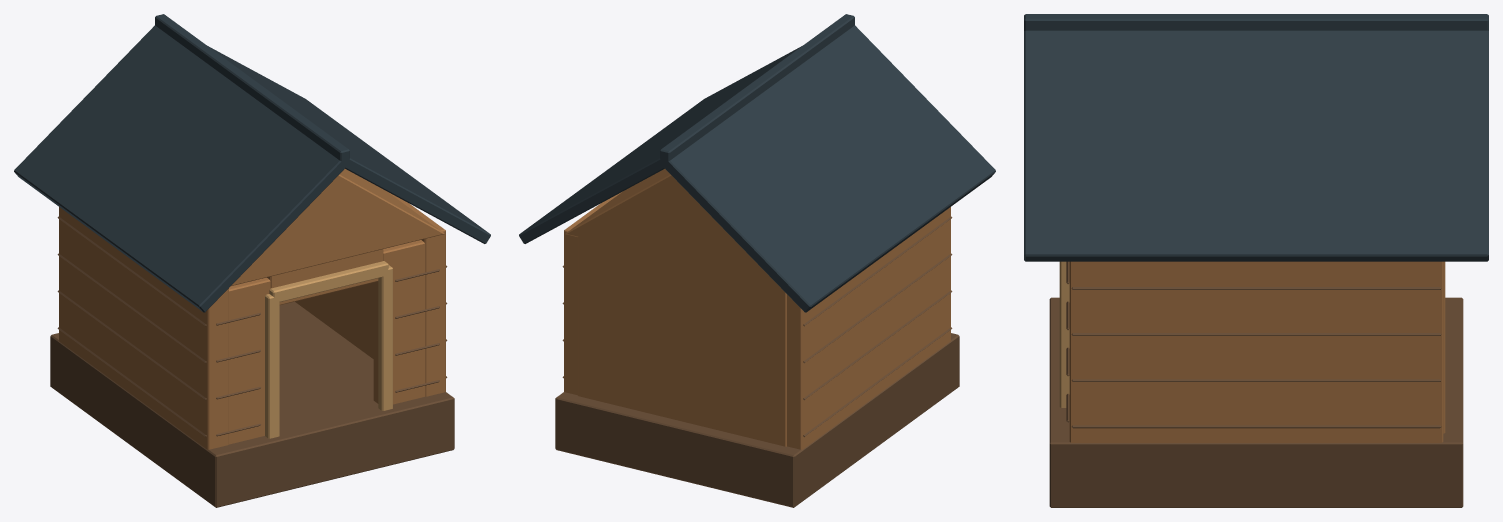
File: b11_cedar_backyard_dog_house.glb
3 views of the same model, side by side, from view 1: azimuth 30°, elevation 25°; view 2: azimuth 150°, elevation 25°; view 3: azimuth 270°, elevation 25° (orthographic). The views are drawn at different scales.
Parts seen in each view (by area): view 1: b11_cedar_backyard_dog_house; view 2: b11_cedar_backyard_dog_house; view 3: b11_cedar_backyard_dog_house.
Part boxes in pixels (box(x1,y1,x2,y2)): b11_cedar_backyard_dog_house: box(14, 14, 490, 507); b11_cedar_backyard_dog_house: box(519, 14, 995, 507); b11_cedar_backyard_dog_house: box(1024, 14, 1488, 507).
Bounding box in the file's own units: 1.16 × 1.27 × 1.28.
